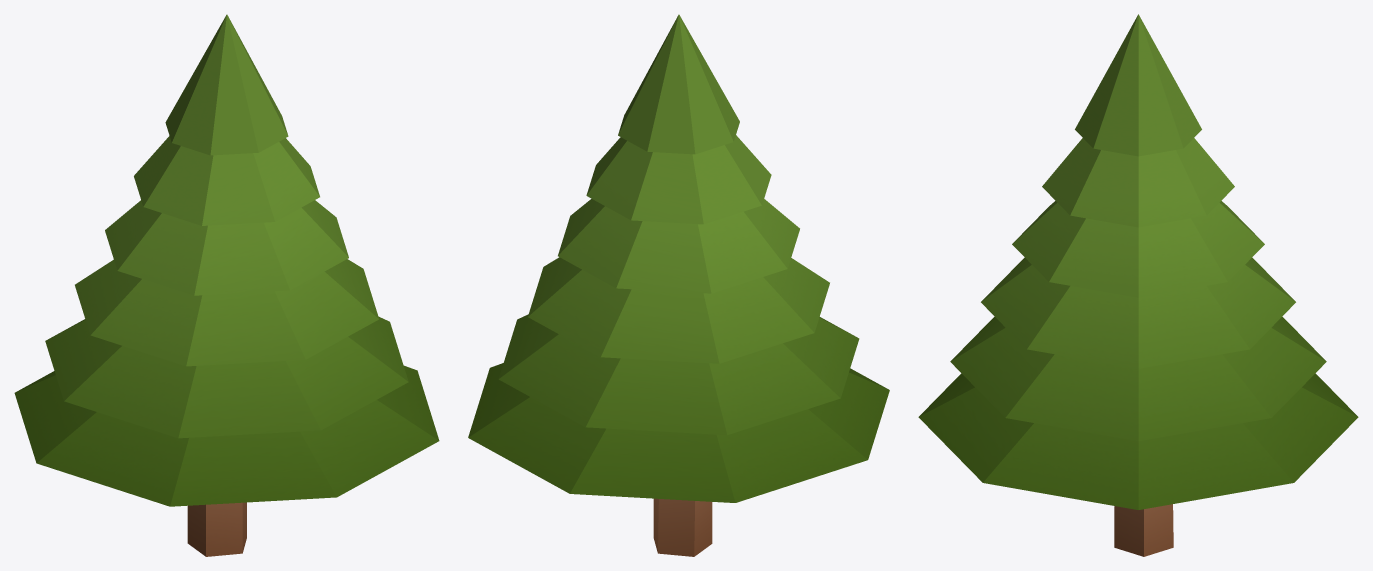
File: TREE003.fbx
The picture shows the model from 3 angles, left to right: view 1: azimuth 30°, elevation 25°; view 2: azimuth 150°, elevation 25°; view 3: azimuth 270°, elevation 25°; orthographic projection.
Visible parts, largest first — view 1: polySurface23; view 2: polySurface23; view 3: polySurface23.
Boxes of the visible parts, left/top/right/bottom form: polySurface23: left=14, top=14, right=439, bottom=556; polySurface23: left=468, top=14, right=889, bottom=556; polySurface23: left=918, top=14, right=1358, bottom=556.
Size of the model in its own units: 6.91 by 9.21 by 6.91.
1 material, 1 textured.
